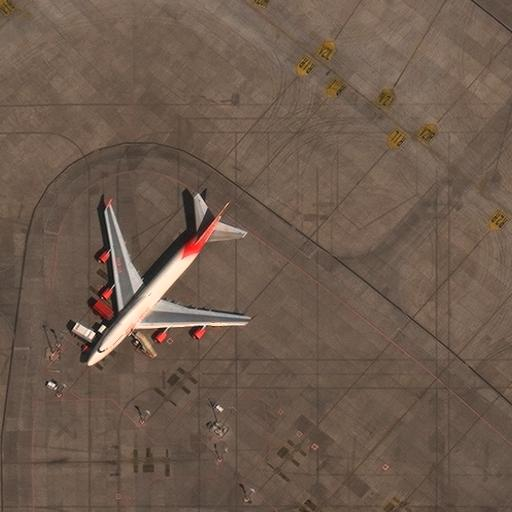Large Civil Transport: (88, 202, 246, 364)
